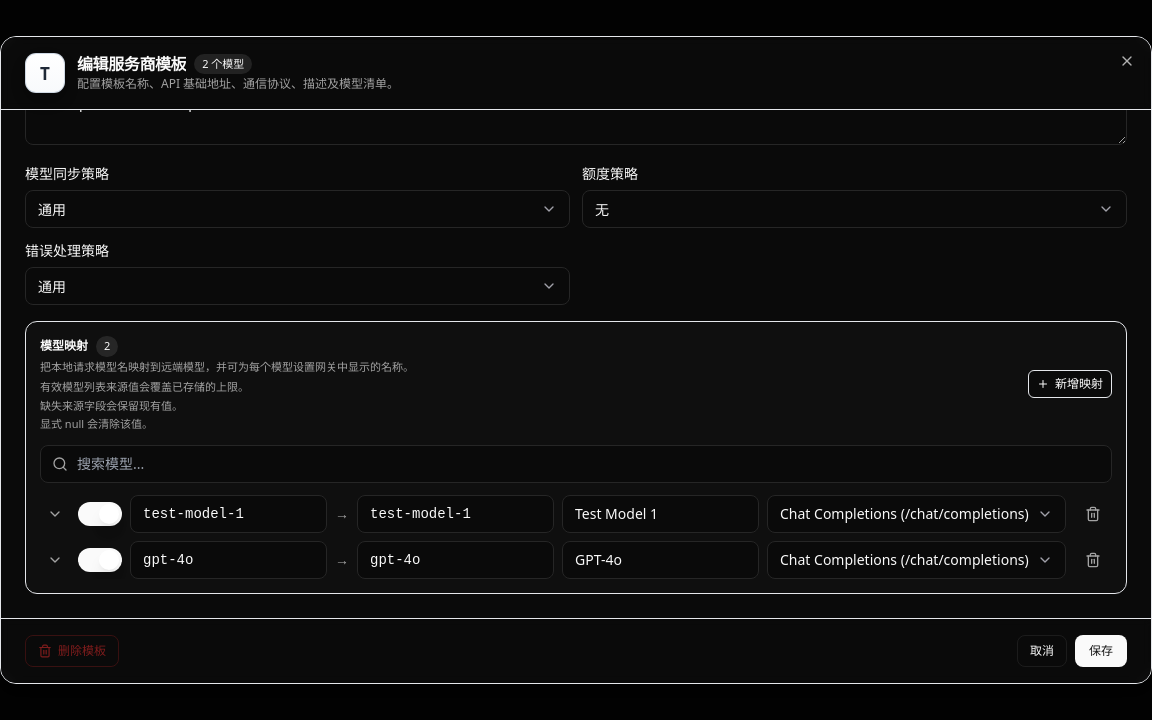
ProviderTemplateEditDialog › filters models list by search keyword
This screenshot has width=1152, height=720.
(page scrolled)
Expected: the field with test id "template-edit-model-upstream-0" holds "test-model-1", [357,494,554,532]
Expected: the field with test id "template-edit-model-upstream-1" holds "gpt-4o", [357,540,554,578]
Type "gpt" into the field with test id "template-edit-models-search" at x=576, y=464, box [40,444,1112,482]
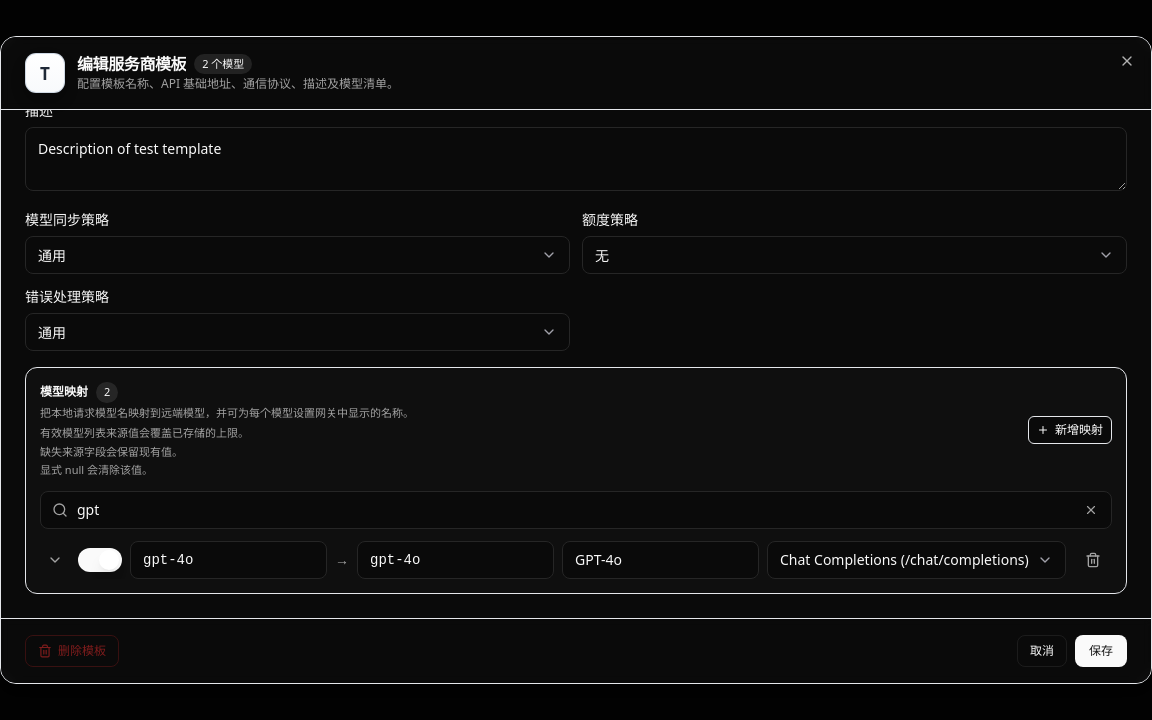
Expected: the field with test id "template-edit-model-upstream-1" holds "gpt-4o", [357,540,554,578]
Now the field with test id "template-edit-model-upstream-0" is gone
